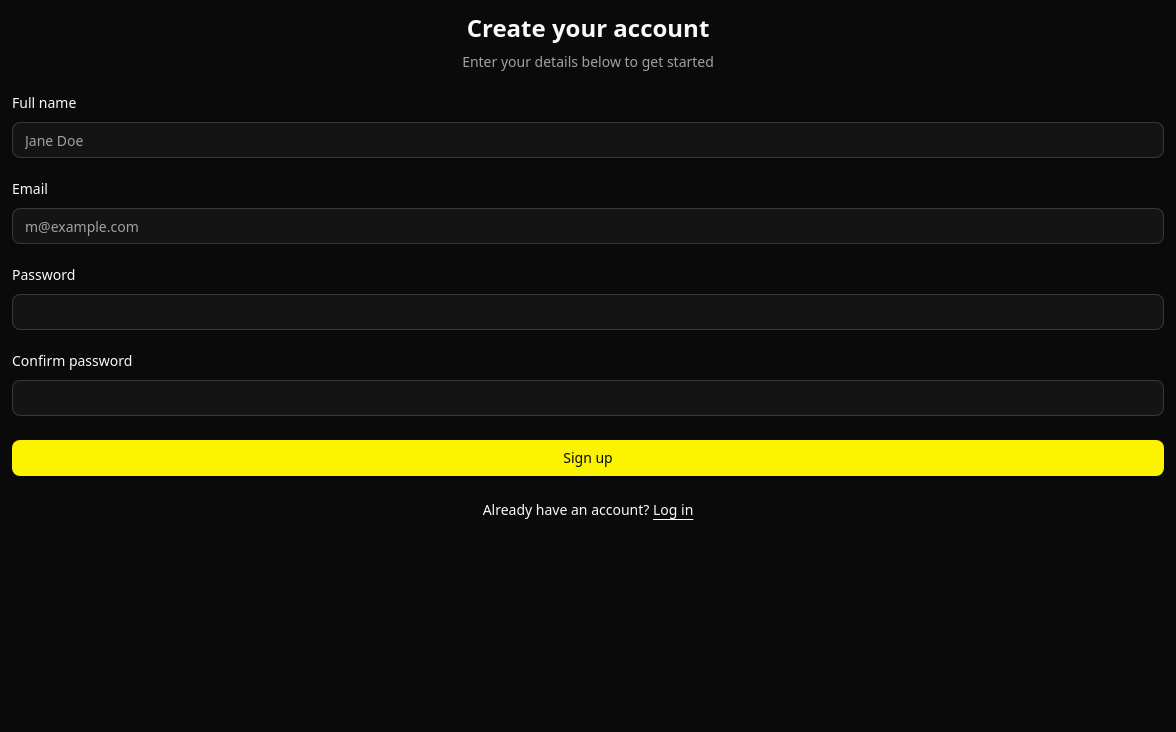
SignupForm › blocks submission when passwords do not match
This screenshot has width=1176, height=732.
Type "user@example.com" into the field labelled "Email" at [588, 226], box x1=12 y1=208 x2=1164 y2=244
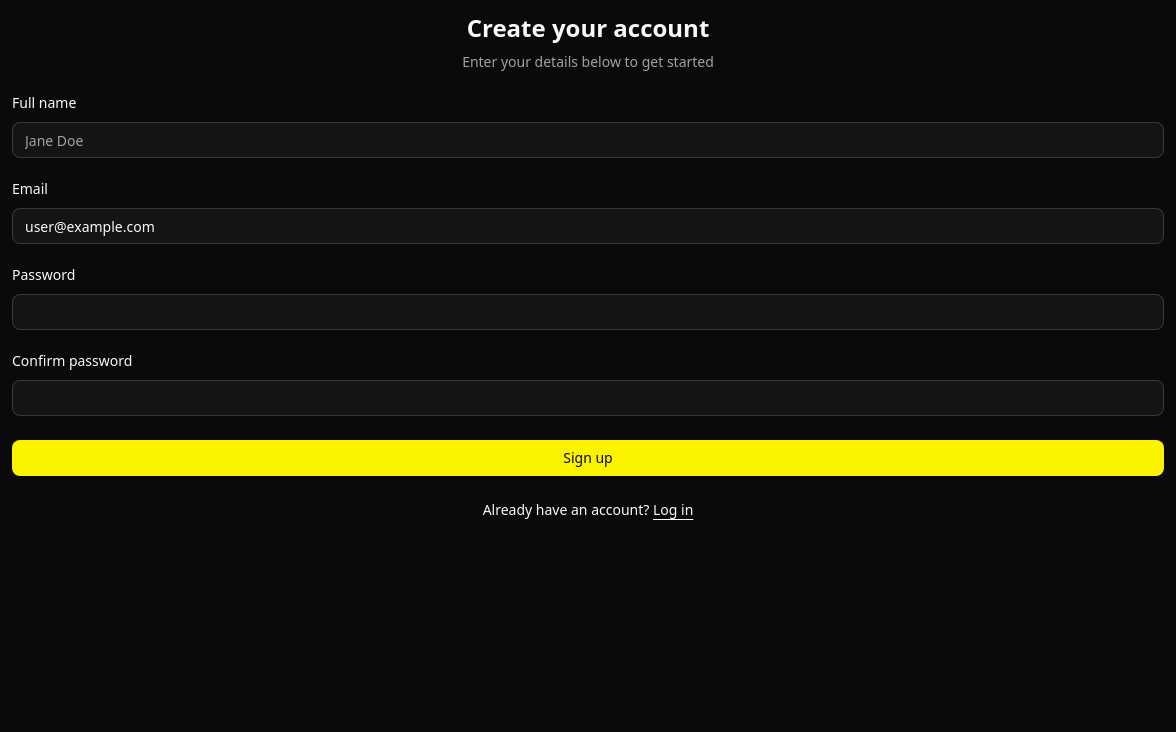
Type "secret" into the password field labelled "Password" at [588, 312], box x1=12 y1=294 x2=1164 y2=330
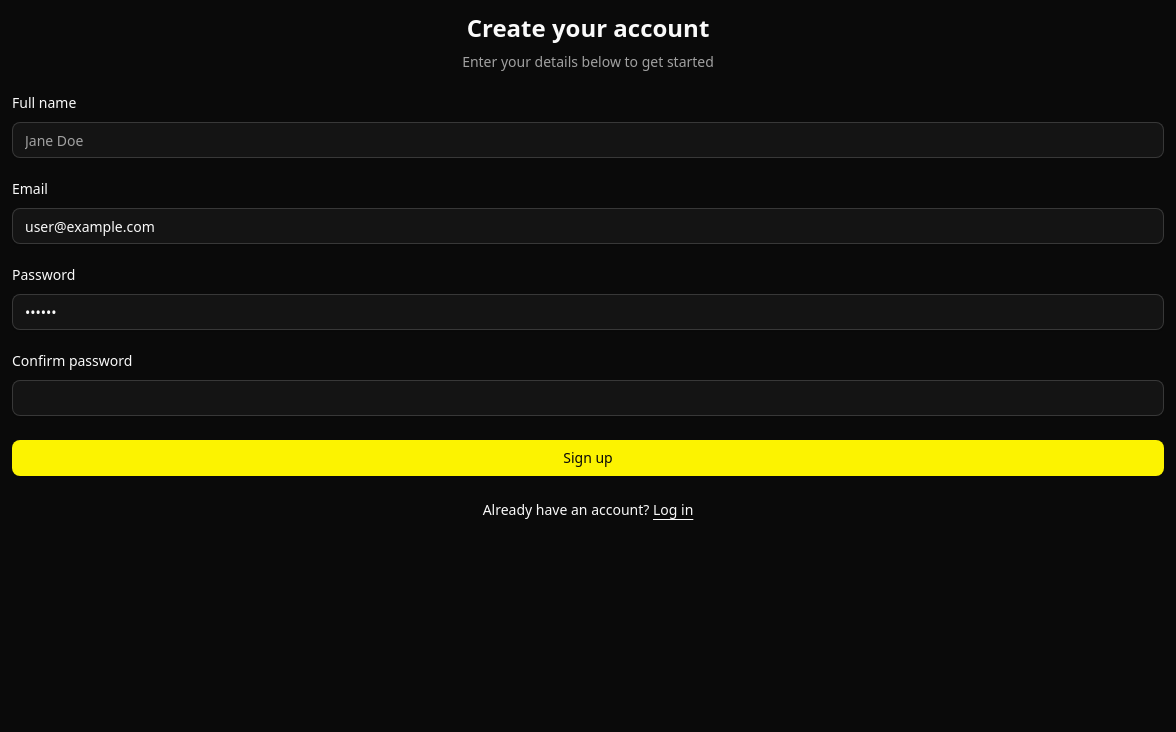
Type "different" into the password field labelled "Confirm password" at [588, 398], box x1=12 y1=380 x2=1164 y2=416
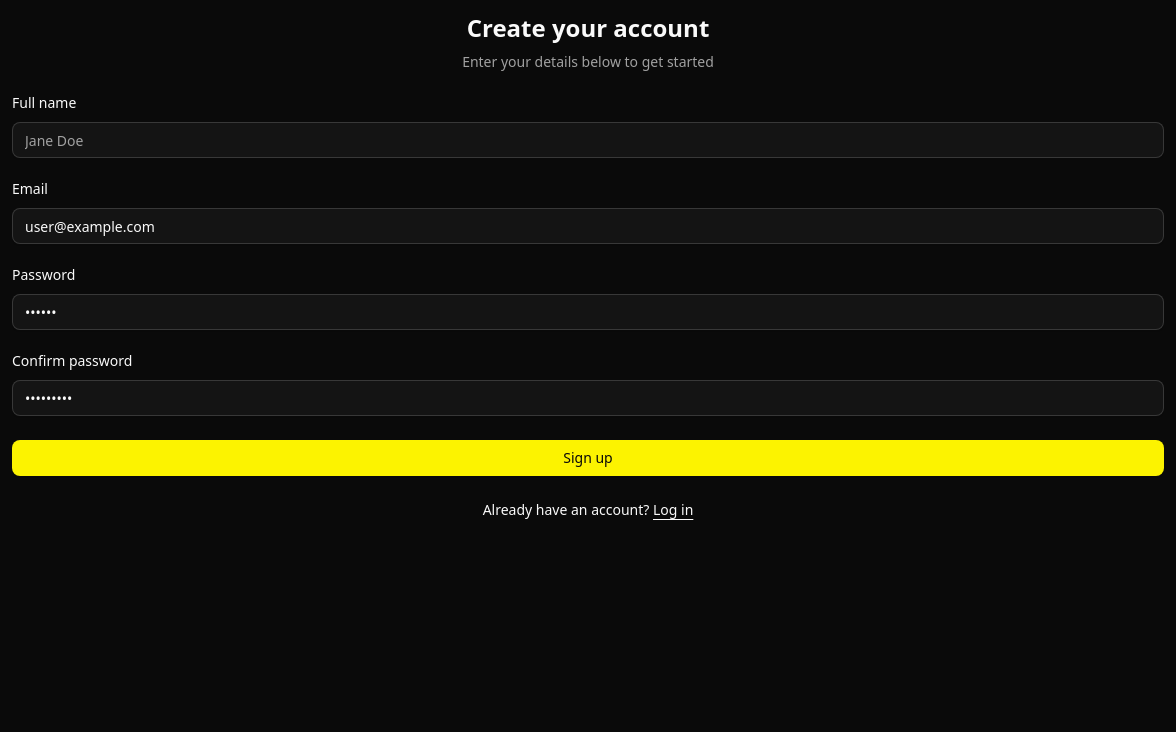
Submit the form named "Sign up"
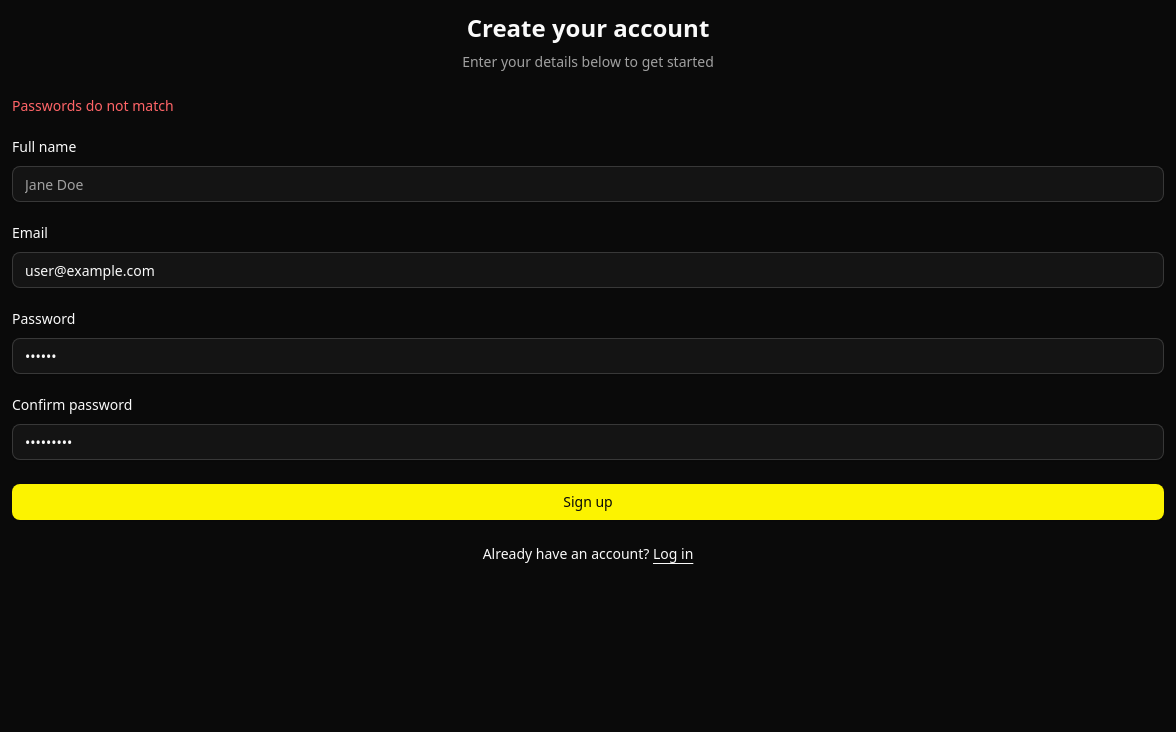
expect the text "Passwords do not match" is shown: met, box x1=12 y1=96 x2=174 y2=115
